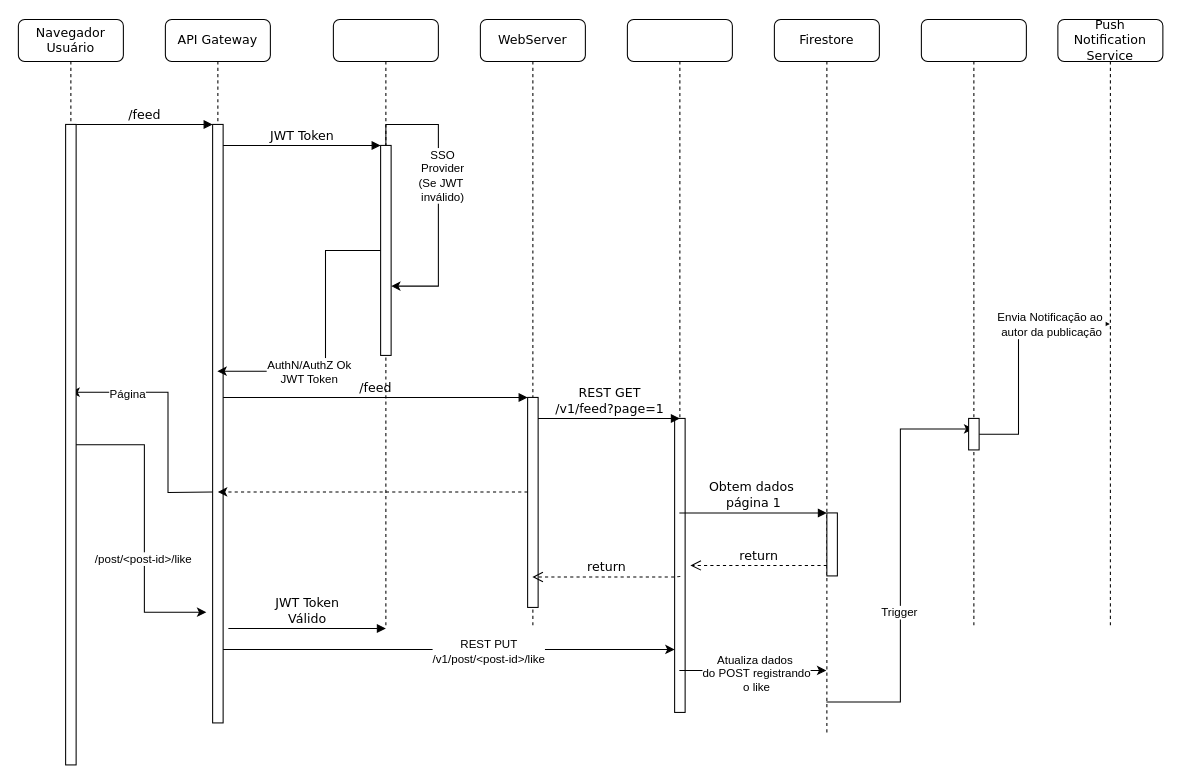
Some shapes in this 1181 by 783 pixel diagram are drawn without their labels. The shapes that lost their labels are listed below. From the top down, each one's box as (x1, y1, x2, y2) in pixels, then its label:
(332, 18, 438, 628): Cloud IAM
(920, 18, 1026, 628): Cloud Function
(626, 18, 732, 712): BackEnd
